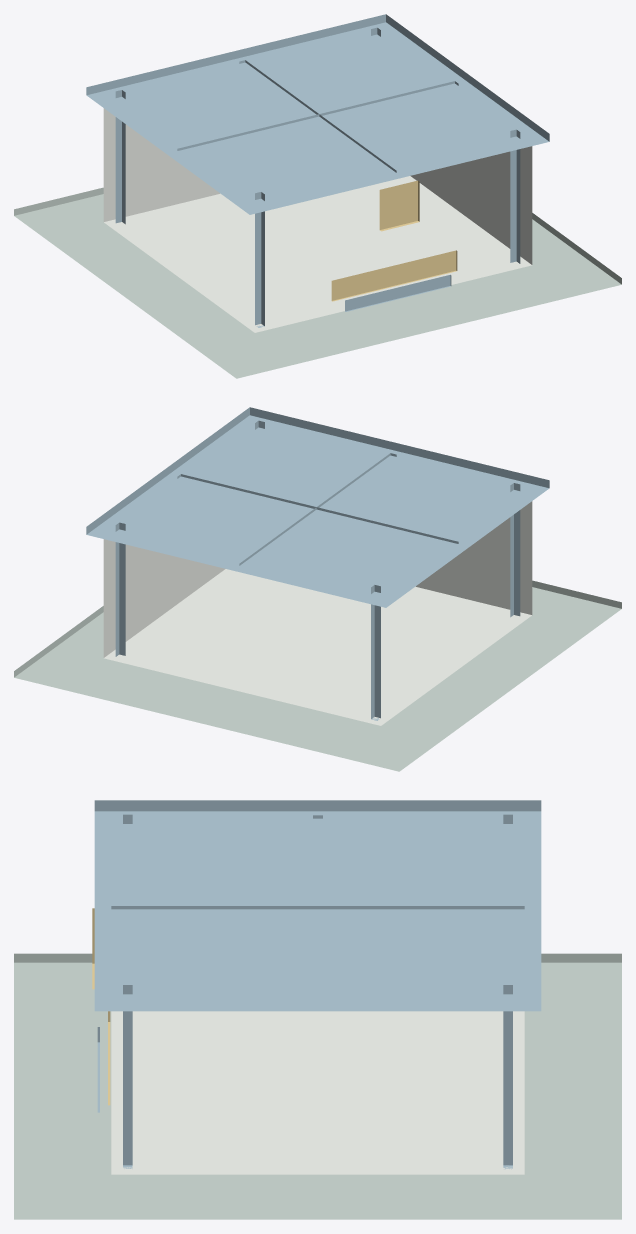
The model's file is school.glb.
3 views of the same model, one above another, from view 1: azimuth 30°, elevation 25°; view 2: azimuth 150°, elevation 25°; view 3: azimuth 270°, elevation 25° (orthographic). The views are drawn at different scales.
Visible parts, largest first — view 1: Roof, Walls, Foundation, Details, Frame; view 2: Roof, Walls, Foundation, Frame; view 3: Roof, Foundation, Walls, Frame, Details.
Boxes of the visible parts, box(x1,y1,x2,y2) form: Roof: box(86, 14, 549, 214); Walls: box(103, 108, 532, 332); Foundation: box(14, 187, 621, 378); Details: box(331, 180, 457, 311); Frame: box(115, 27, 520, 327); Roof: box(86, 407, 549, 607); Walls: box(103, 501, 532, 725); Foundation: box(14, 580, 621, 771); Frame: box(115, 420, 520, 720); Roof: box(94, 800, 541, 1011); Foundation: box(14, 953, 621, 1219); Walls: box(111, 1011, 524, 1174); Frame: box(111, 814, 524, 1169); Details: box(92, 908, 110, 1112).
Bounding box in the file's own units: 40 × 13.86 × 40.
